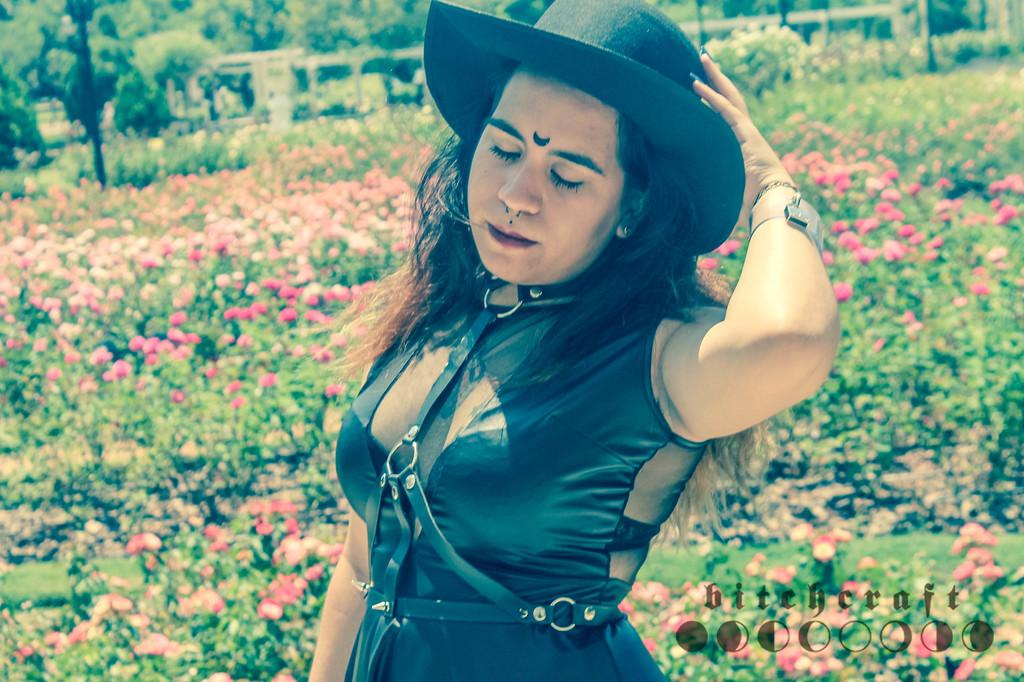Hat: (424, 0, 748, 259)
